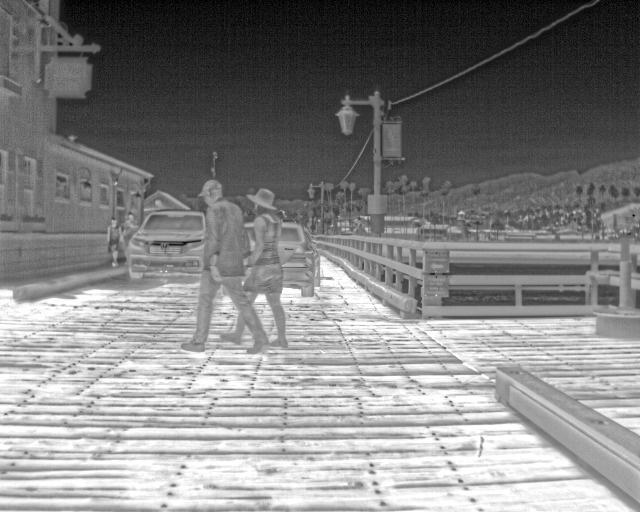bicycle: (124, 207, 208, 281), (280, 220, 322, 296)
empty: (179, 178, 264, 352), (241, 187, 290, 348), (107, 222, 124, 271), (120, 213, 142, 248)
